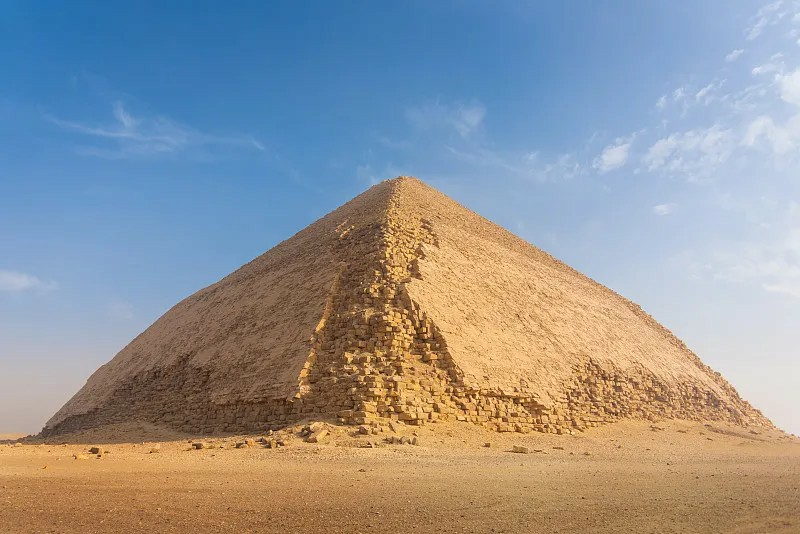Pyramid: (37, 175, 782, 443)
